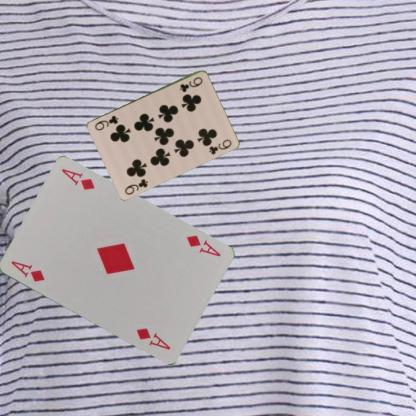9c: (122, 176, 150, 196), (177, 74, 204, 93)
Ad: (8, 258, 46, 284), (183, 232, 221, 258)
